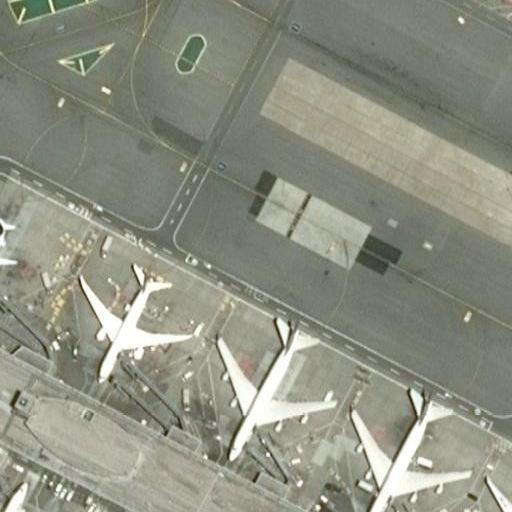Aircraft: (214, 311, 336, 462), (350, 382, 473, 512), (76, 259, 192, 384), (484, 442, 512, 512), (0, 477, 43, 512)
